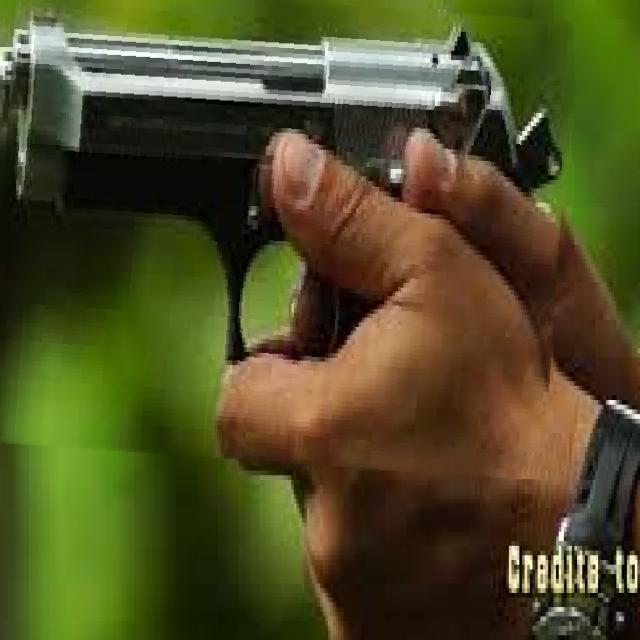Gun_Holder: (8, 16, 640, 634)
